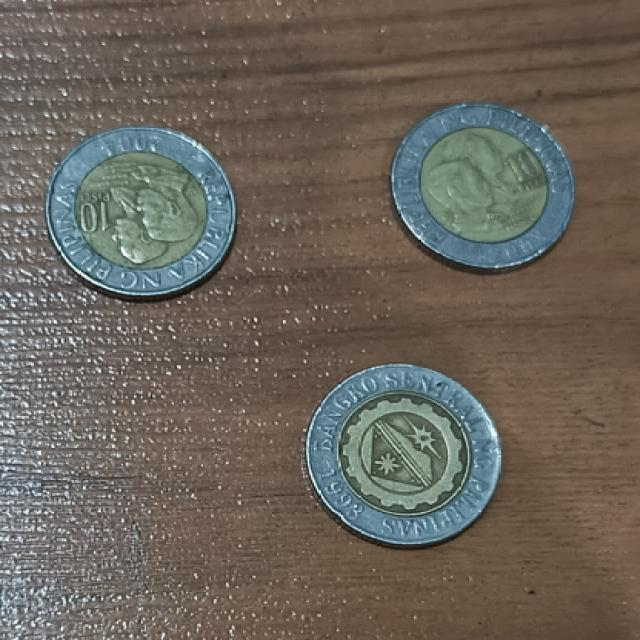10_peso: (305, 365, 498, 545), (49, 127, 234, 298), (395, 103, 574, 268)
